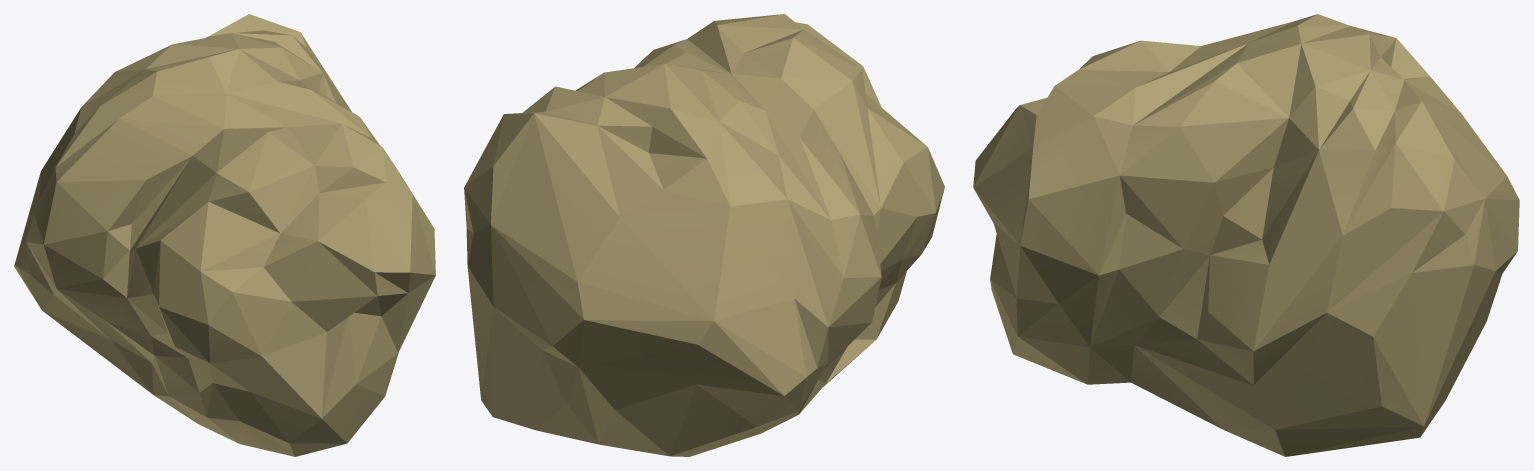
File: SM_rock_13.fbx
The picture shows the model from 3 angles, left to right: view 1: azimuth 30°, elevation 25°; view 2: azimuth 150°, elevation 25°; view 3: azimuth 270°, elevation 25°; orthographic projection. The views are drawn at different scales.
Parts seen in each view (by area): view 1: rock_13; view 2: rock_13; view 3: rock_13.
Boxes of the visible parts, <box> form: rock_13: <box>14,14,435,456</box>; rock_13: <box>464,14,944,456</box>; rock_13: <box>973,14,1519,456</box>.
Size of the model in its own units: 207 by 204 by 263.
